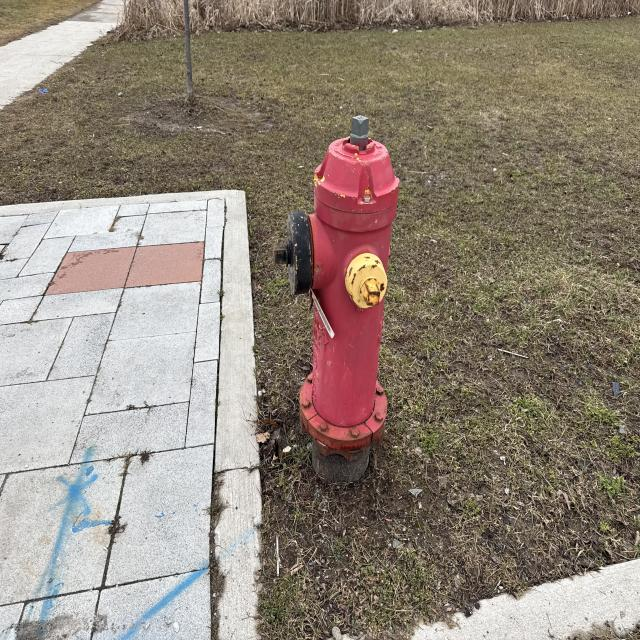Fire hydrant: (273, 115, 400, 462)
